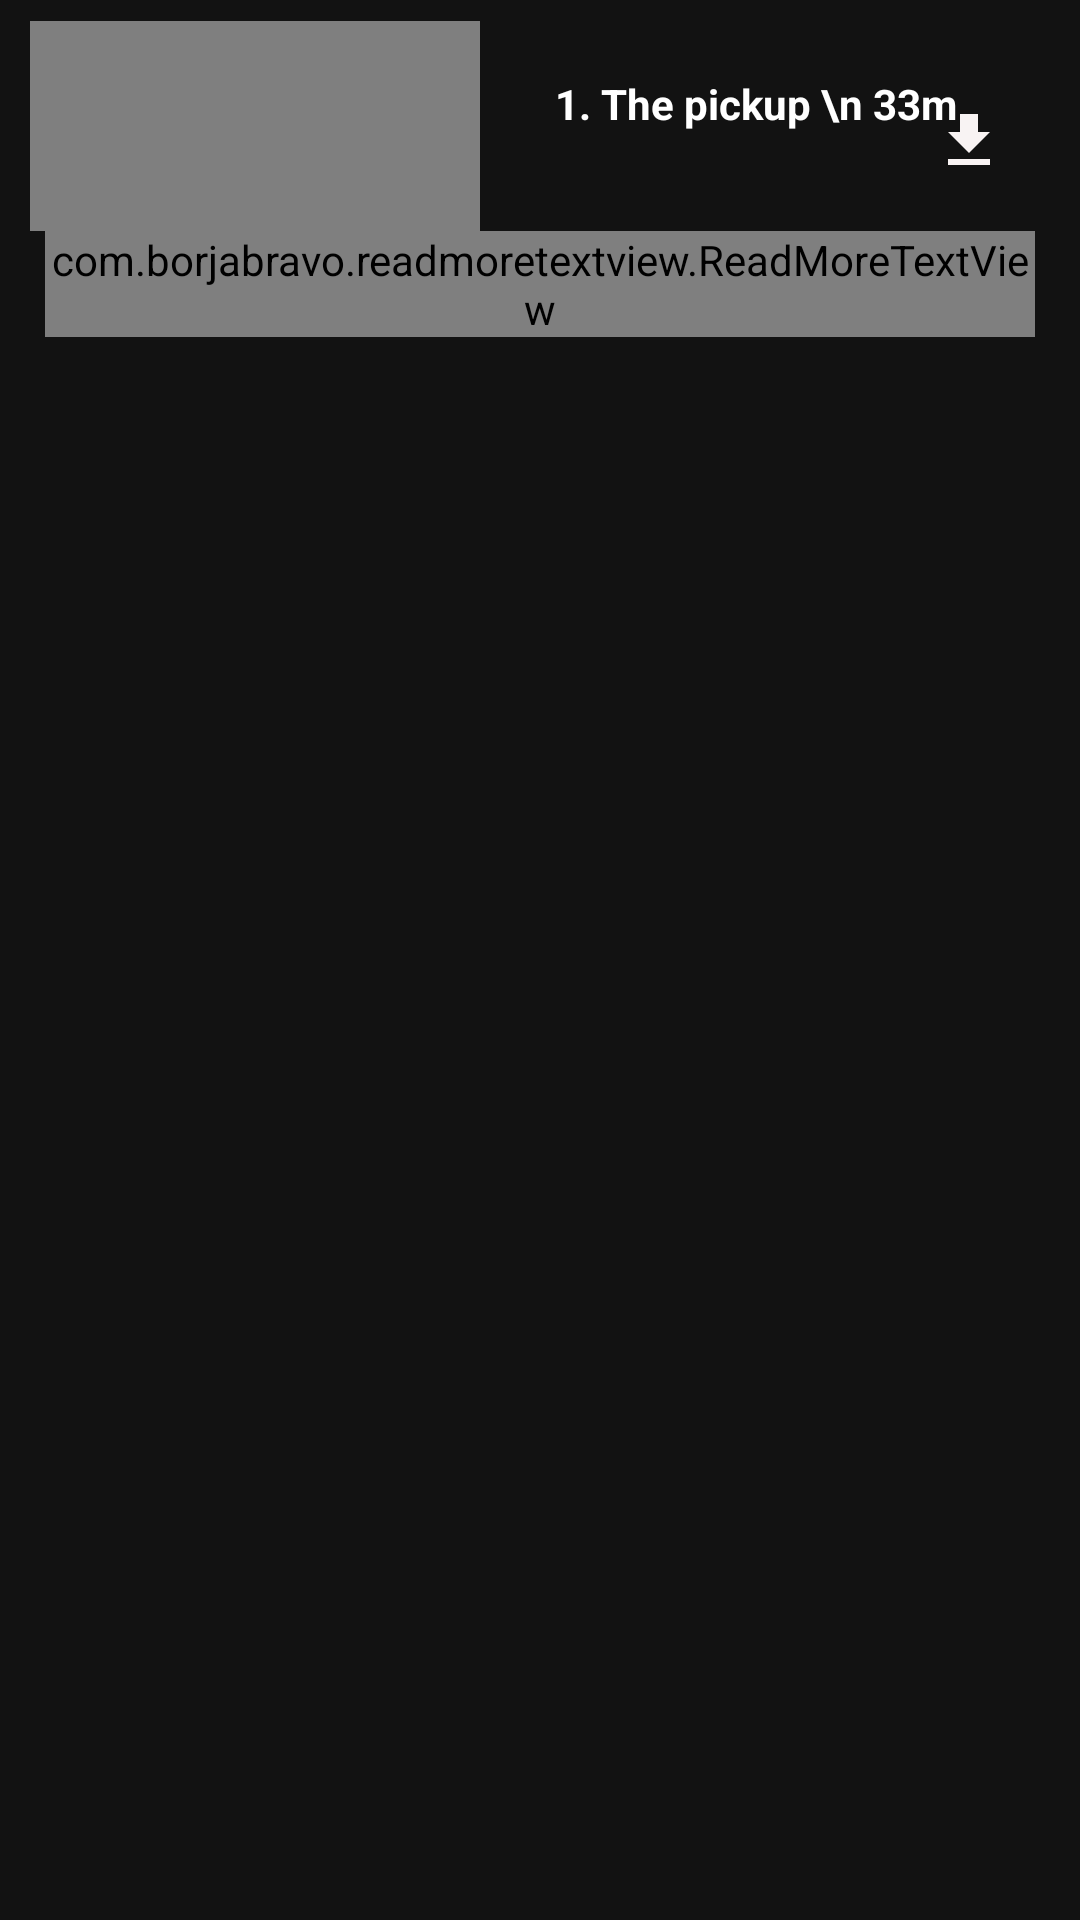

Screen size 1080*1920. Icon name, then its center in pixels as (x,y):
download: (969,139)
